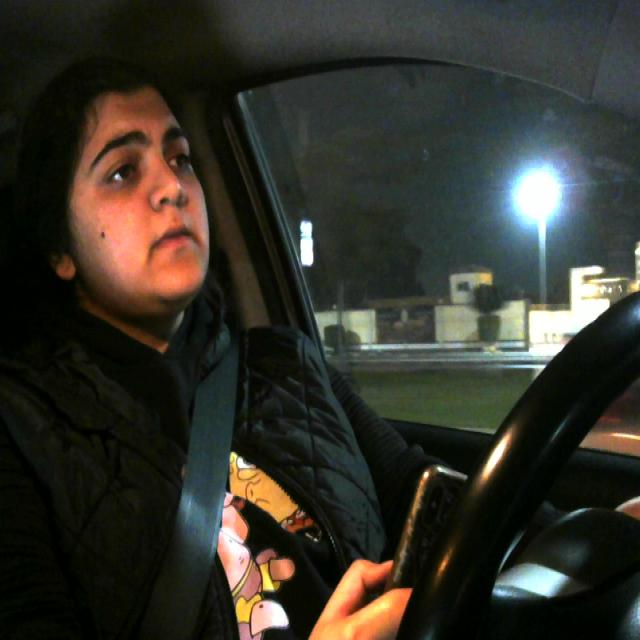mobile use: (394, 448, 481, 632)
